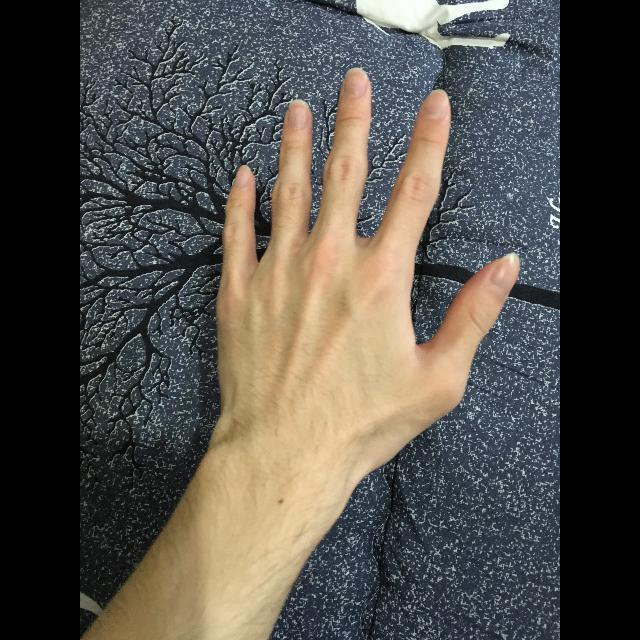bare_hand: (211, 64, 524, 468)
